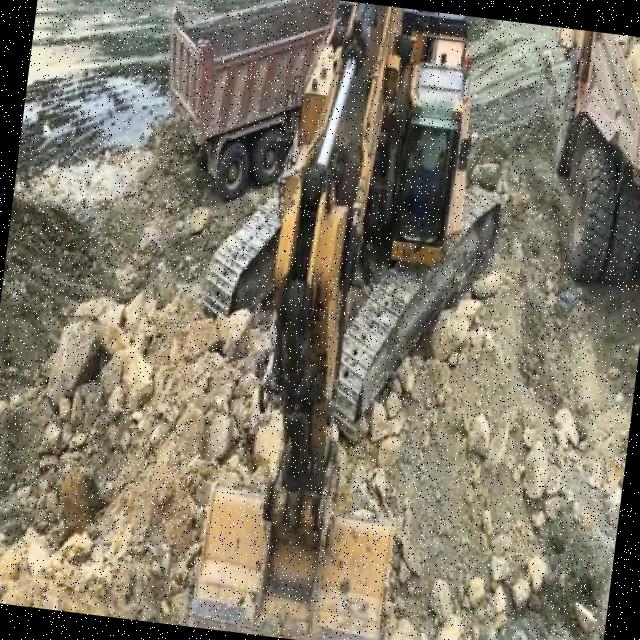Dump Truck: (145, 0, 360, 215), (519, 25, 640, 295)
Excavator: (159, 0, 528, 640)
